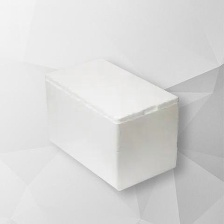foam_box: (41, 54, 186, 194)
